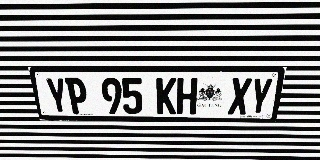5: (121, 78, 143, 114)
9: (101, 78, 123, 114)
H: (177, 78, 198, 114)
K: (156, 78, 177, 114)
P: (65, 78, 89, 114)
X: (228, 78, 252, 115)
Y: (248, 78, 274, 115), (44, 78, 70, 114)
